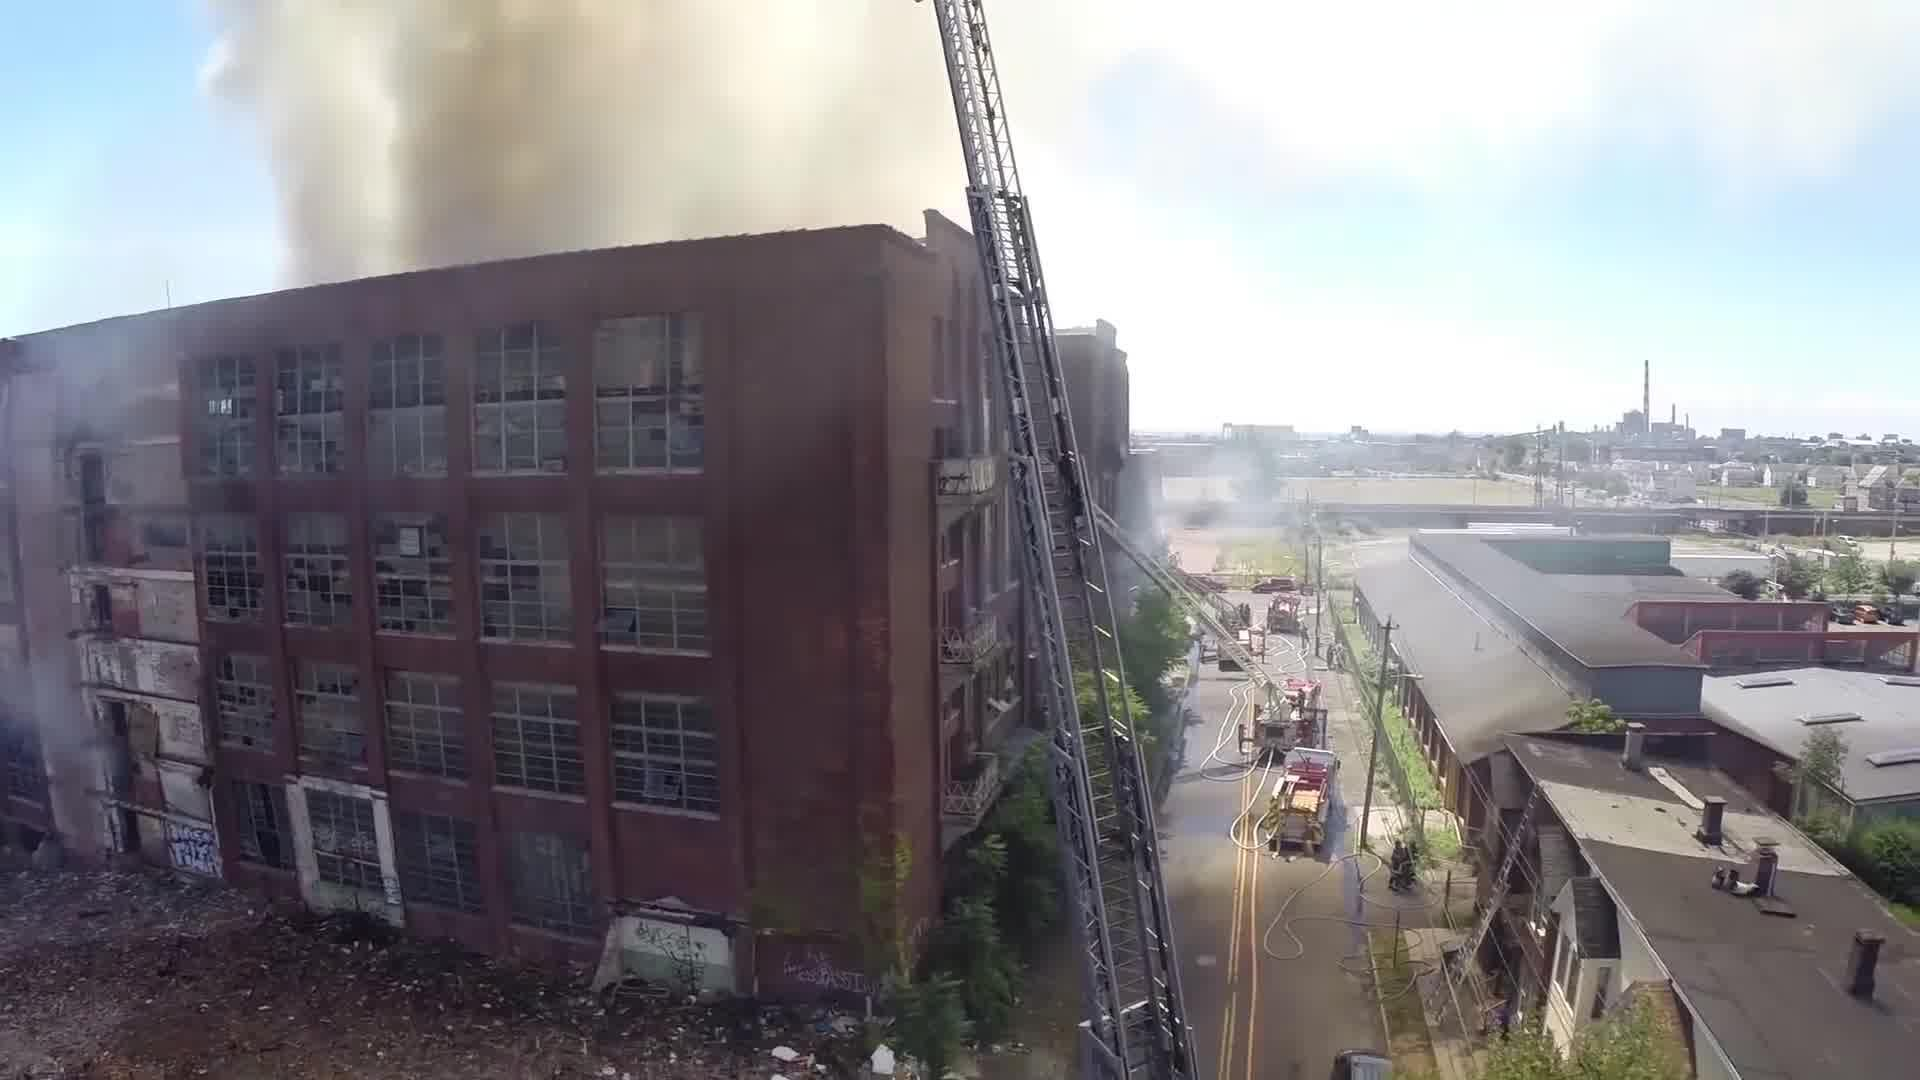smoke: (257, 0, 1018, 269)
